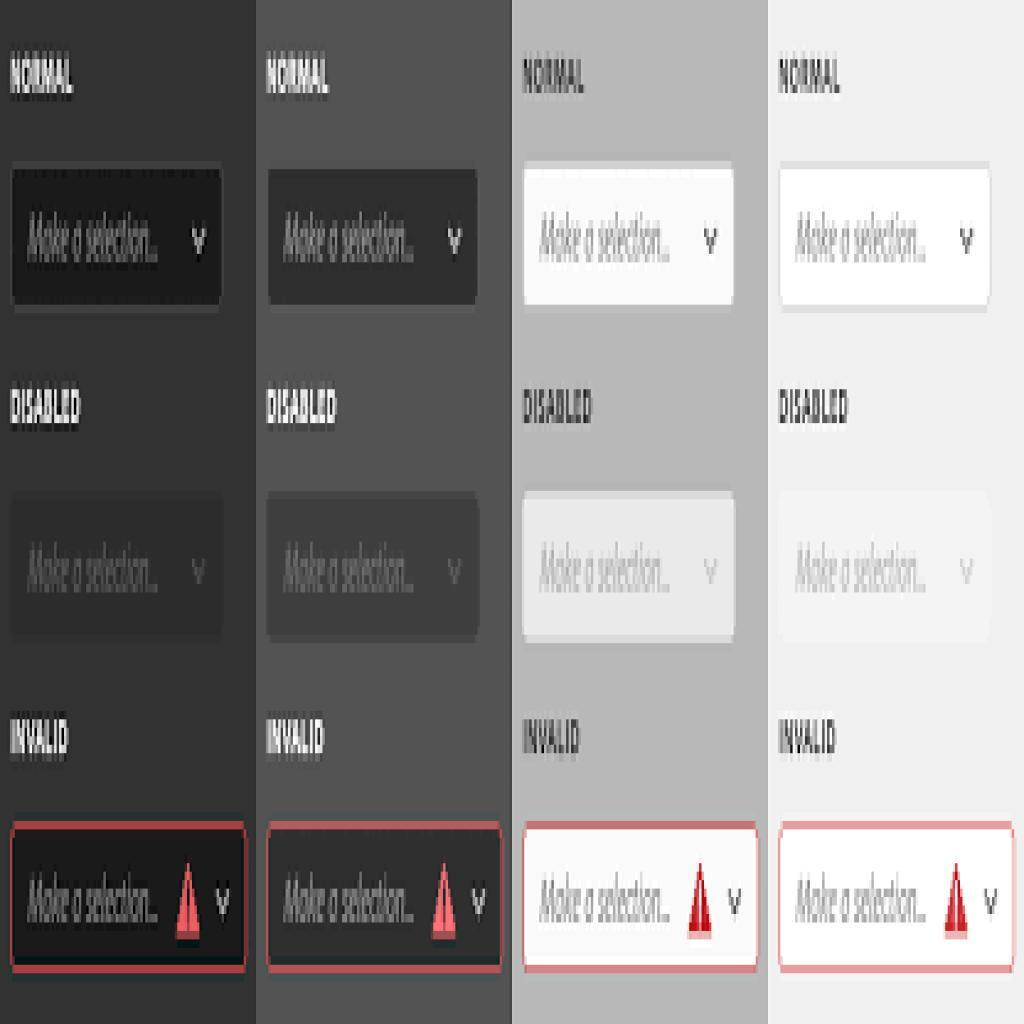dropdown: (267, 821, 506, 974), (521, 487, 738, 649), (521, 824, 764, 968), (7, 829, 251, 972), (7, 492, 227, 648), (782, 488, 999, 646), (783, 821, 1016, 967), (781, 162, 998, 316), (523, 163, 743, 311), (264, 493, 480, 638), (265, 167, 483, 305), (11, 167, 224, 308)
